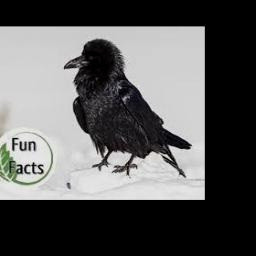Crow: (63, 39, 191, 178)
